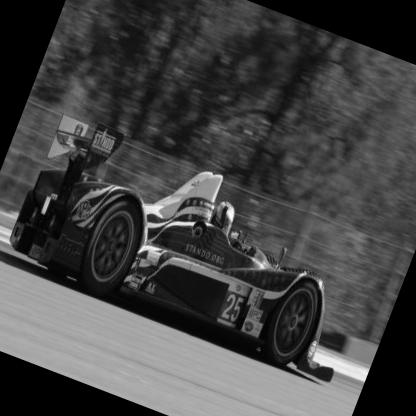car: (1, 74, 386, 391)
